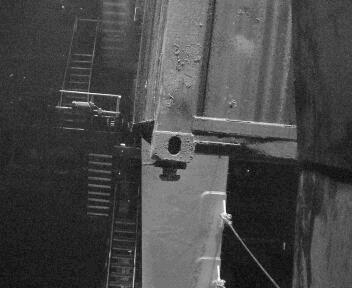twist_lock_1: (175, 158, 217, 189)
